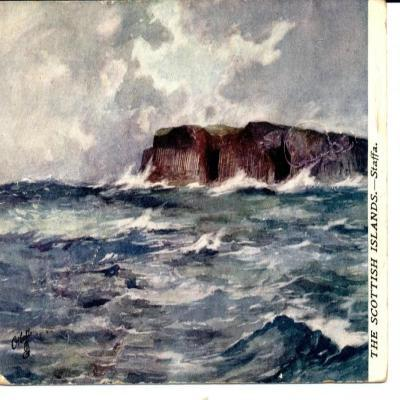graphics: (0, 0, 388, 384)
